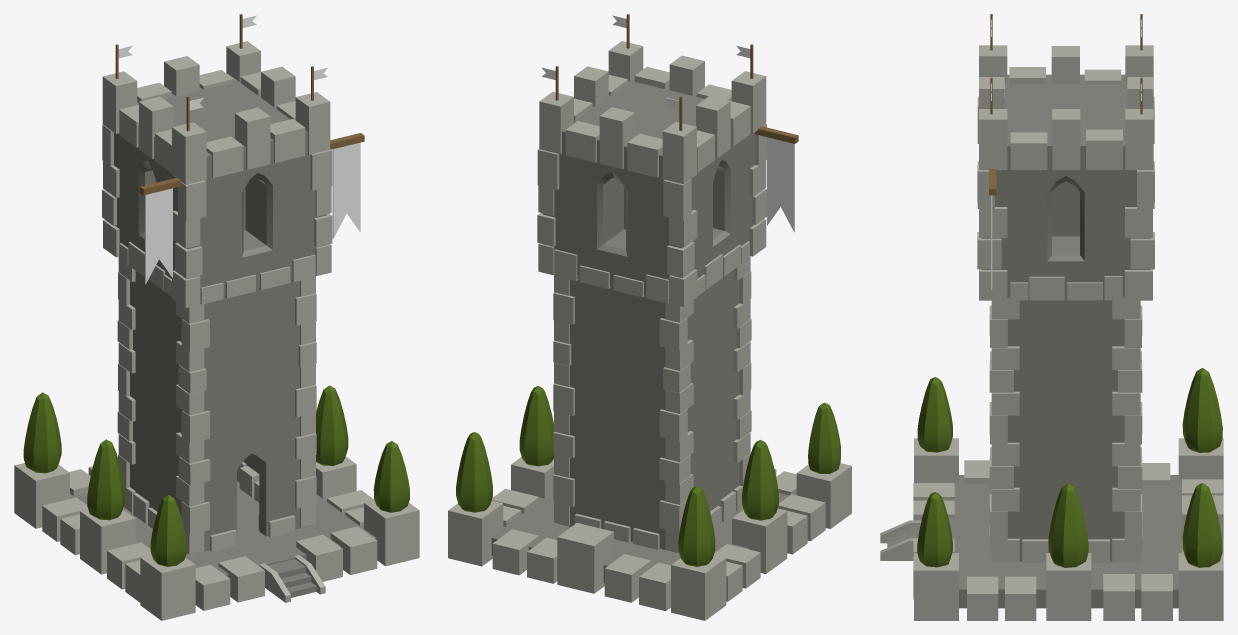
Rendered from tower.glb.
The picture shows the model from 3 angles, left to right: view 1: azimuth 30°, elevation 25°; view 2: azimuth 150°, elevation 25°; view 3: azimuth 270°, elevation 25°; orthographic projection. The views are drawn at different scales.
Parts seen in each view (by area): view 1: WatchTower_SecondAge_Level3; view 2: WatchTower_SecondAge_Level3; view 3: WatchTower_SecondAge_Level3.
Part boxes in pixels (<box>): WatchTower_SecondAge_Level3: <box>14,14,419,620</box>; WatchTower_SecondAge_Level3: <box>448,14,851,620</box>; WatchTower_SecondAge_Level3: <box>880,14,1223,620</box>.
Bounding box in the file's own units: 1.82 × 3.25 × 2.
